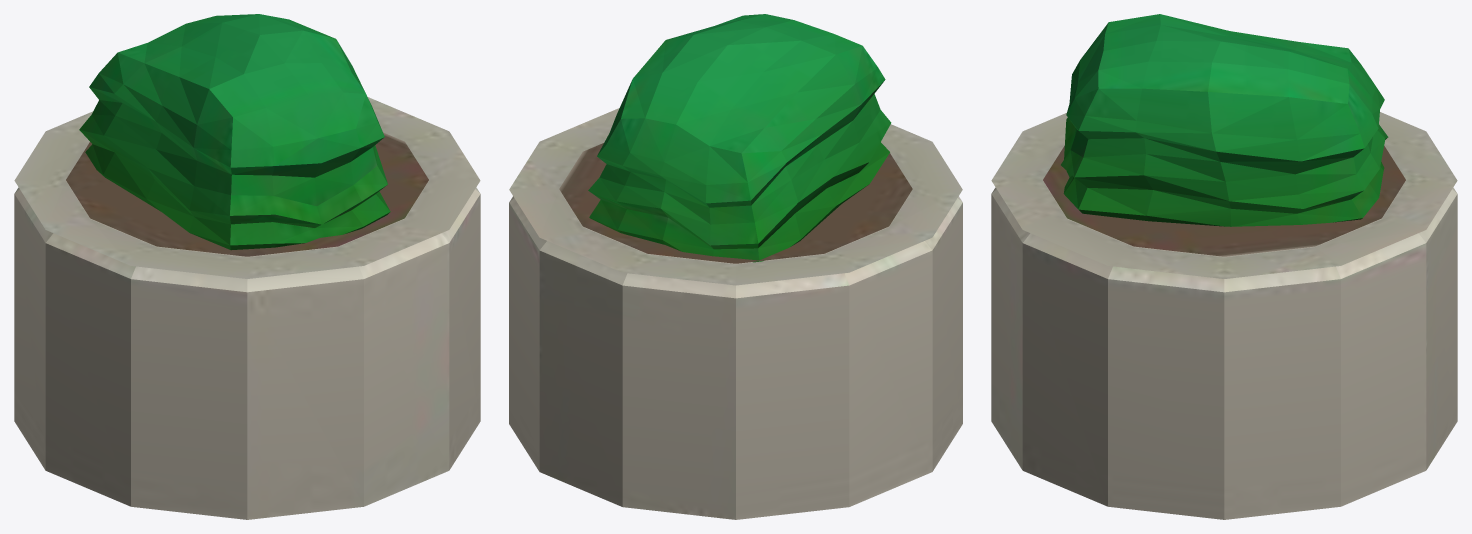
Rendered from gate_planter_bush.glb.
3 renders of one model, left to right at view 1: azimuth 30°, elevation 25°; view 2: azimuth 150°, elevation 25°; view 3: azimuth 270°, elevation 25°, orthographic. The views are drawn at different scales.
Visible parts, largest first — view 1: gate_planter_bush; view 2: gate_planter_bush; view 3: gate_planter_bush.
Part boxes in pixels (bbox=[...]): gate_planter_bush: bbox=[14, 14, 480, 519]; gate_planter_bush: bbox=[509, 14, 962, 519]; gate_planter_bush: bbox=[991, 14, 1457, 519].
Size of the model in its own units: 0.68 by 0.62 by 0.68.
Materials: 1 (1 with a texture image).
